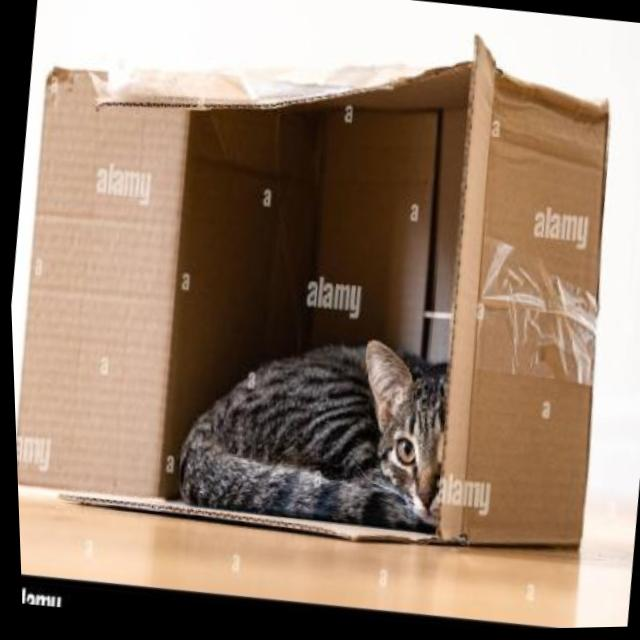box: (0, 0, 640, 615)
